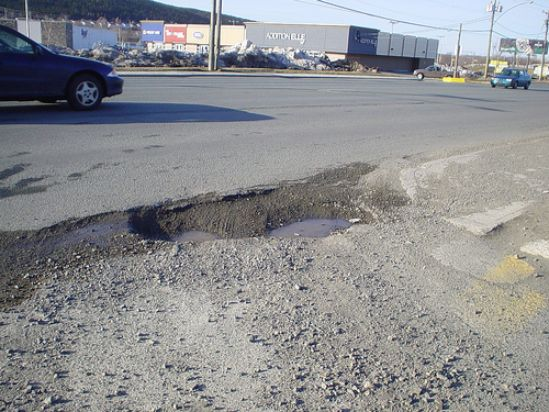pothole: (132, 189, 264, 246), (258, 205, 363, 245)
